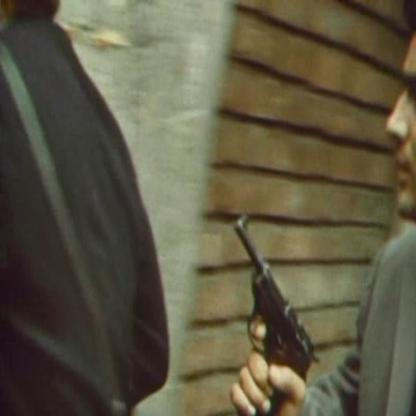gun: (228, 207, 322, 416)
